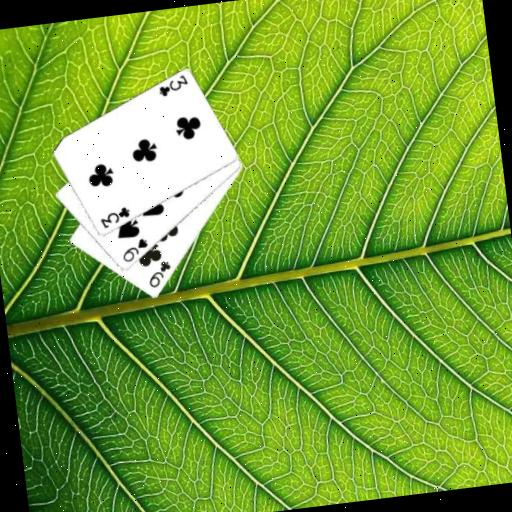3C: (95, 203, 133, 231), (154, 71, 192, 99)
9C: (144, 257, 175, 290)
9S: (118, 235, 152, 265)
